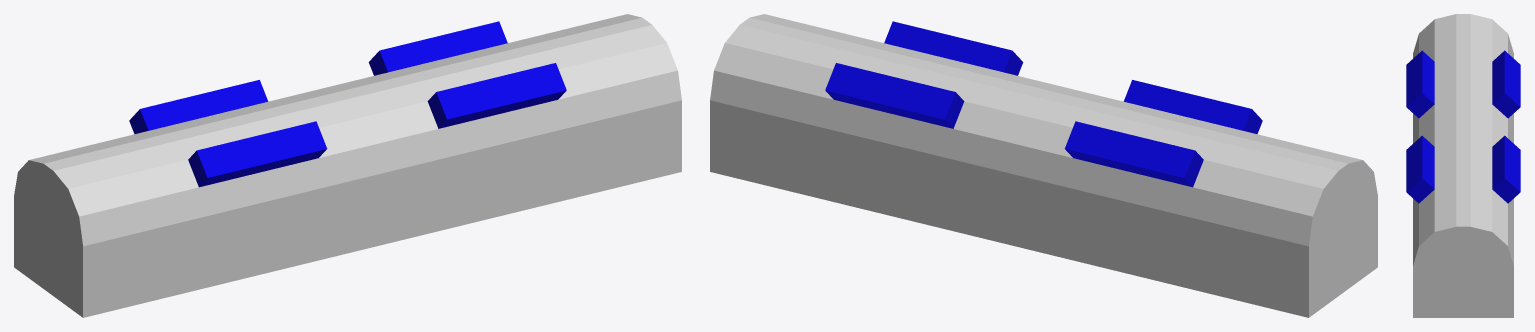
The model's file is MagnetFlat.fbx.
3 views of the same model, side by side, from view 1: azimuth 30°, elevation 25°; view 2: azimuth 150°, elevation 25°; view 3: azimuth 270°, elevation 25° (orthographic). The views are drawn at different scales.
Parts seen in each view (by area): view 1: Cube; view 2: Cube; view 3: Cube.
Part boxes in pixels (x1=…): Cube: x1=14, y1=14, x2=681, y2=317; Cube: x1=710, y1=14, x2=1377, y2=317; Cube: x1=1406, y1=14, x2=1520, y2=317.
Size of the model in its own units: 500 by 107 by 113.
